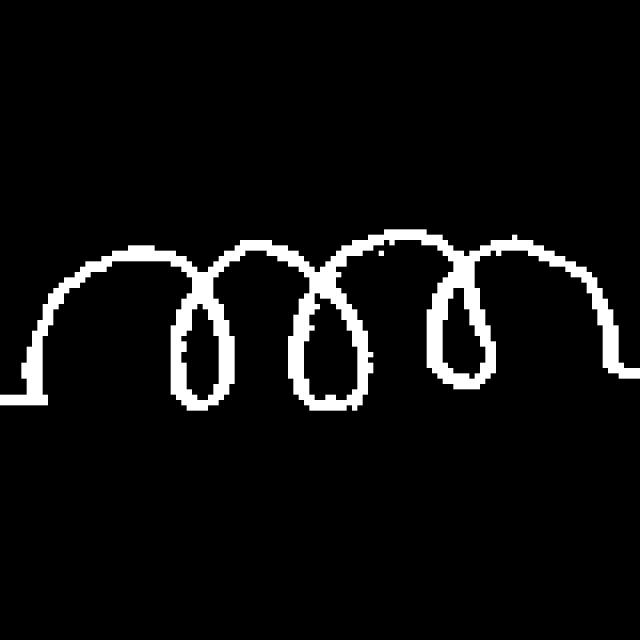inductor: (22, 199, 627, 454)
